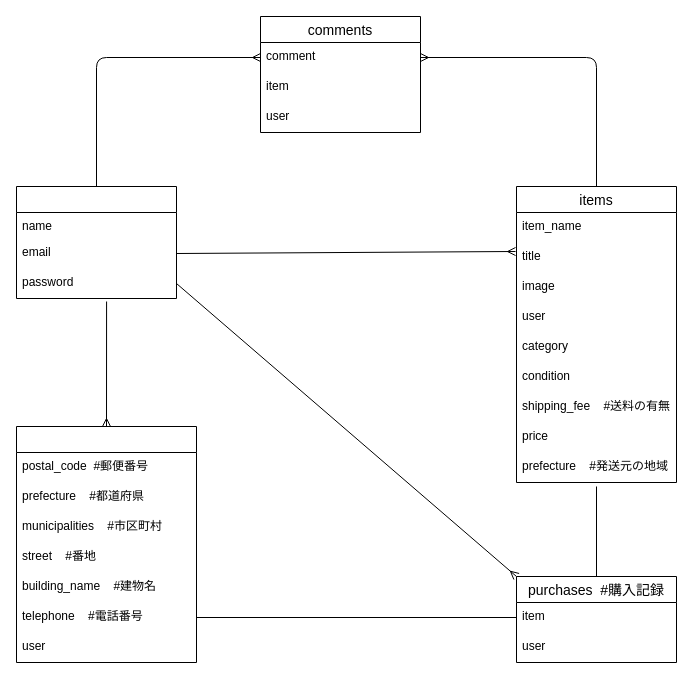
Some shapes in this 693 by 679 pixel diagram are drawn without their labels. The shapes that lost their labels are listed below. From the top down, each one's box as (x1, y1, x2, y2) in pixels, then its label:
(16, 186, 176, 298): users
(16, 426, 196, 662): area_data #発送先情報
